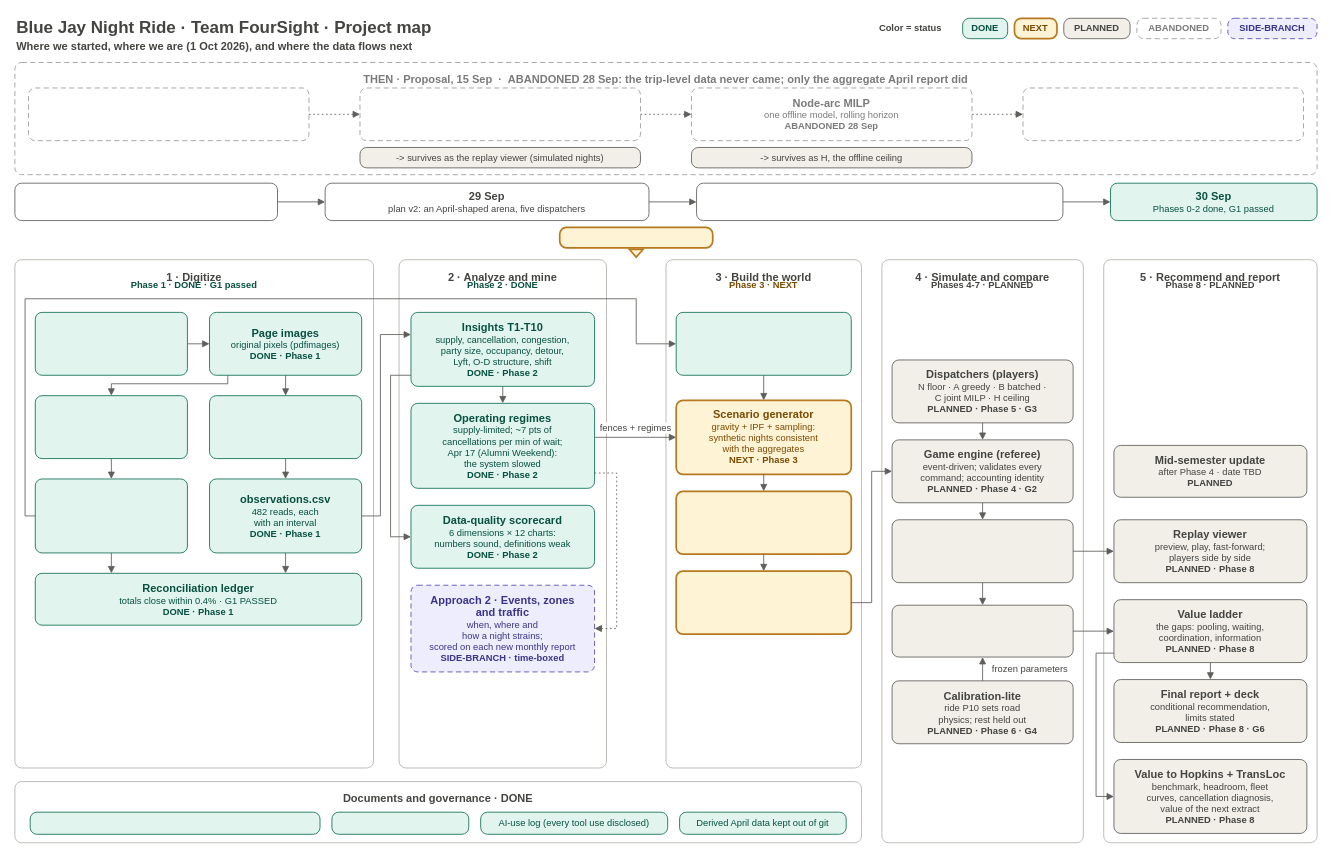
Image size: 1332x858. Some labels were removed from this diagram. The shapes that lost their labels are listed below. From the top down, each one's centre as x and y in pixels, then its label:
(x=168, y=114): Trip-level TransLoc extracts expected; never arrived ABANDONED 28 Sep
(x=499, y=114): Replay April nights reconstruct each night, trip by trip ABANDONED 28 Sep
(x=1162, y=114): Compare with actual April the historical baseline ABANDONED 28 Sep
(x=146, y=201): 28 Sep aggregate-only April report (12 charts)
(x=879, y=201): 29 Sep Prof. Kearsley: "gradient pointing in the right direction"
(x=635, y=237): YOU ARE HERE · 1 Oct
(x=110, y=343): April PDF 12 charts on 11 pages, aggregate only DONE · Phase 1
(x=763, y=343): Zones + travel times 16 zones; OSRM, 8,800 directed pairs DONE · v0
(x=110, y=427): Map bubbles 215 read; two blind readers agree on 214 DONE · Phase 1
(x=285, y=427): Chart digitizers color masks, axis fits, tooltip un-blending DONE · Phase 1
(x=110, y=515): Georeference Web Mercator from POI pins; ±17 m campus, ±57 m city DONE · Phase 1
(x=763, y=522): Base scenario M 18:00-19:00, 5 vans, 30 or 60 requests NEXT · Phase 3
(x=982, y=551): Replay log replay.json, request results, run manifest PLANNED · Phase 4
(x=763, y=602): Scale ladder + grid S0 -> S1 -> S2 -> M -> L; grid pre-registered NEXT · Phase 3
(x=982, y=630): Experiments scenarios × players × paired seeds PLANNED · Phase 7 · G5
(x=174, y=822): Team guide v1.0 (22 Sep) -> v2.0 (29 Sep) -> v2.2 (1 Oct)
(x=400, y=822): Decision log D-01 to D-15
